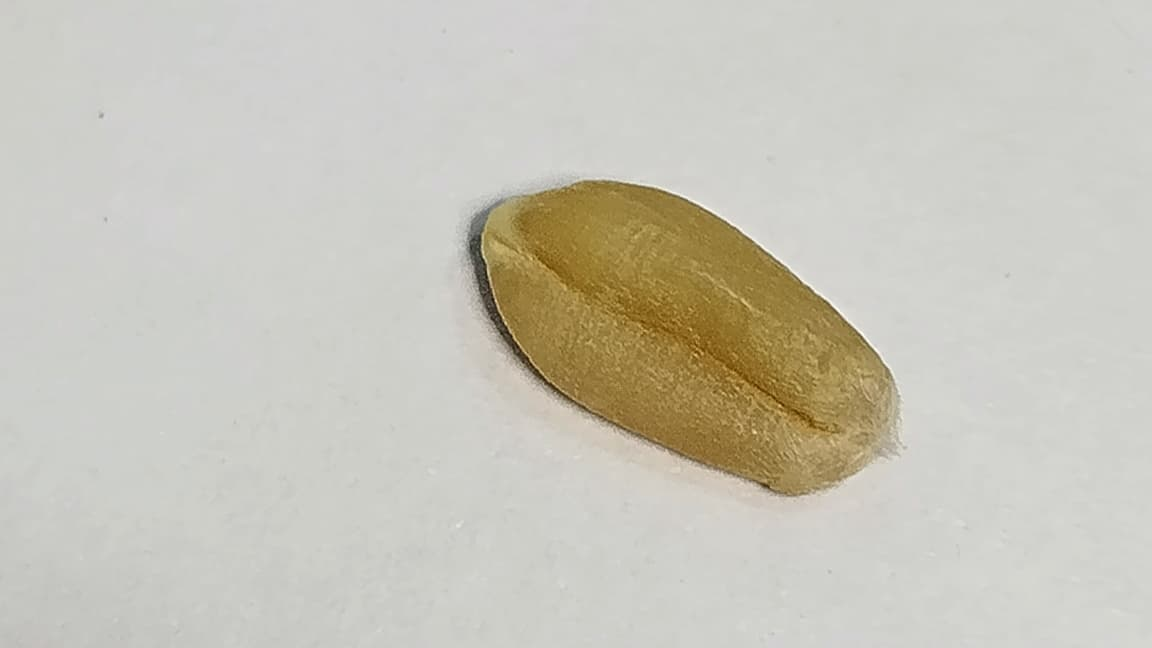healthy: (481, 180, 897, 493)
